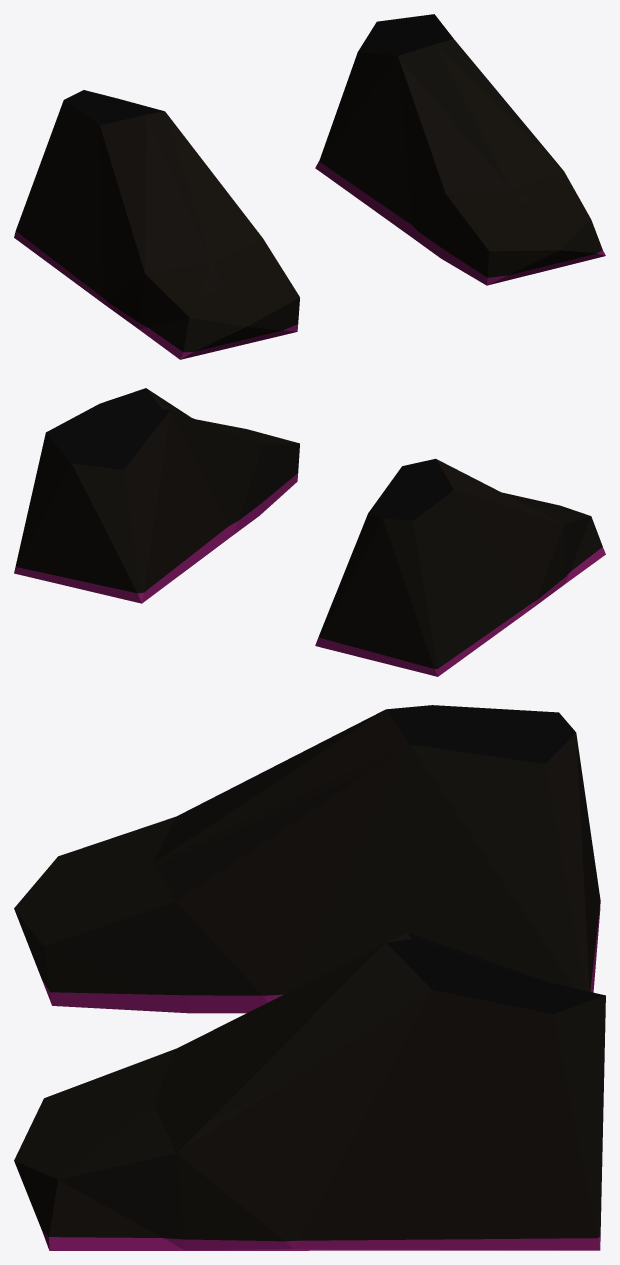
File: shoes.Miami.fbx
The picture shows the model from 3 angles, top to bottom: view 1: azimuth 30°, elevation 25°; view 2: azimuth 150°, elevation 25°; view 3: azimuth 270°, elevation 25°; orthographic projection. The views are drawn at different scales.
Parts seen in each view (by area): view 1: miami.shoes; view 2: miami.shoes; view 3: miami.shoes.
Part boxes in pixels (<box>): miami.shoes: <box>14,14,605,359</box>; miami.shoes: <box>14,388,605,676</box>; miami.shoes: <box>14,705,605,1250</box>.
Size of the model in its own units: 34.1 by 11.95 by 24.61.
